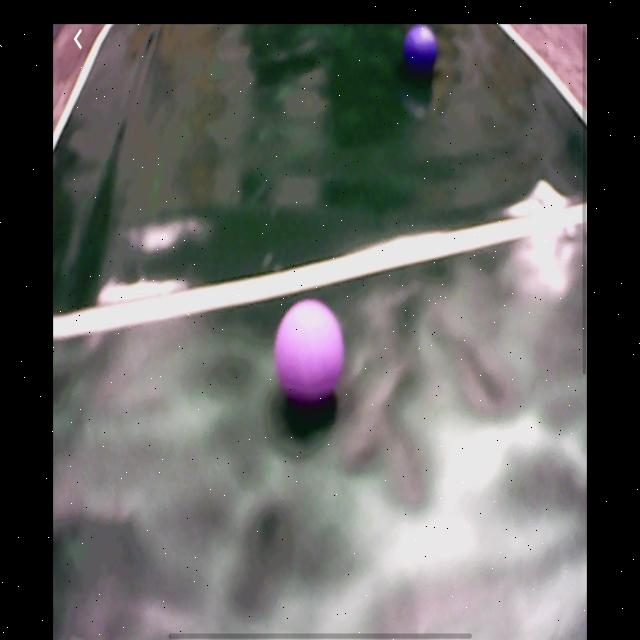ball: (275, 301, 347, 403), (403, 26, 439, 74)
